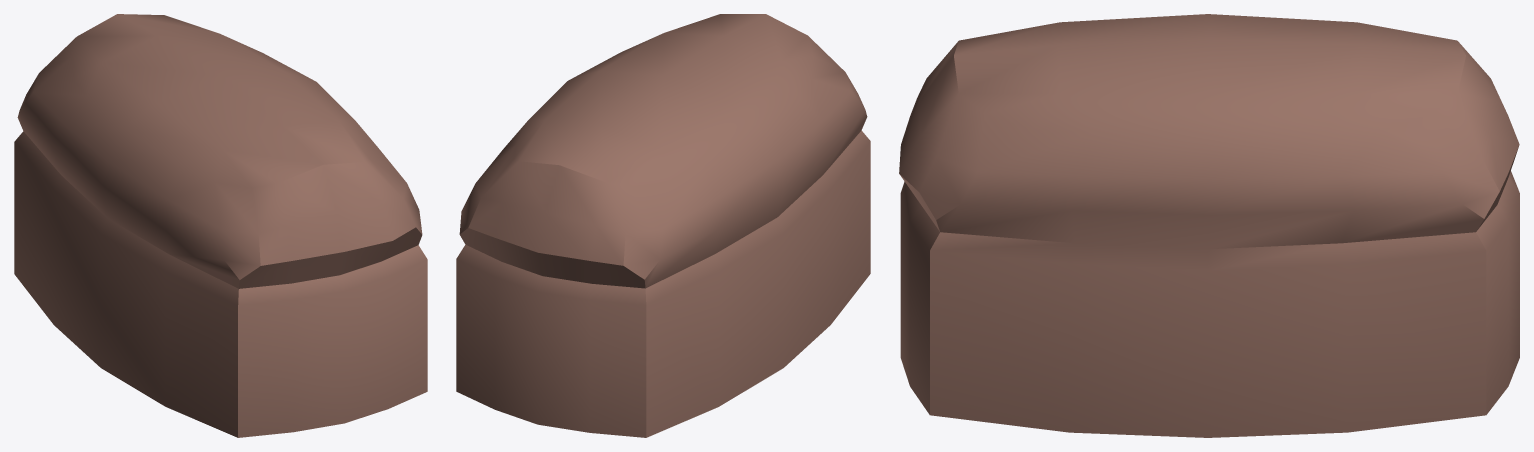
File: Bread.fbx
The picture shows the model from 3 angles, left to right: view 1: azimuth 30°, elevation 25°; view 2: azimuth 150°, elevation 25°; view 3: azimuth 270°, elevation 25°; orthographic projection. The views are drawn at different scales.
Visible parts, largest first — view 1: Bread; view 2: Bread; view 3: Bread.
Part boxes in pixels (left/top/right/bottom): Bread: left=14, top=14, right=427, bottom=437; Bread: left=456, top=14, right=870, bottom=437; Bread: left=899, top=14, right=1519, bottom=437.
Bounding box in the file's own units: 88.63 × 91.96 × 159.
